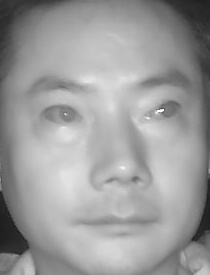eye: (38, 100, 85, 129), (137, 99, 182, 124)
mouth: (75, 199, 158, 244)
